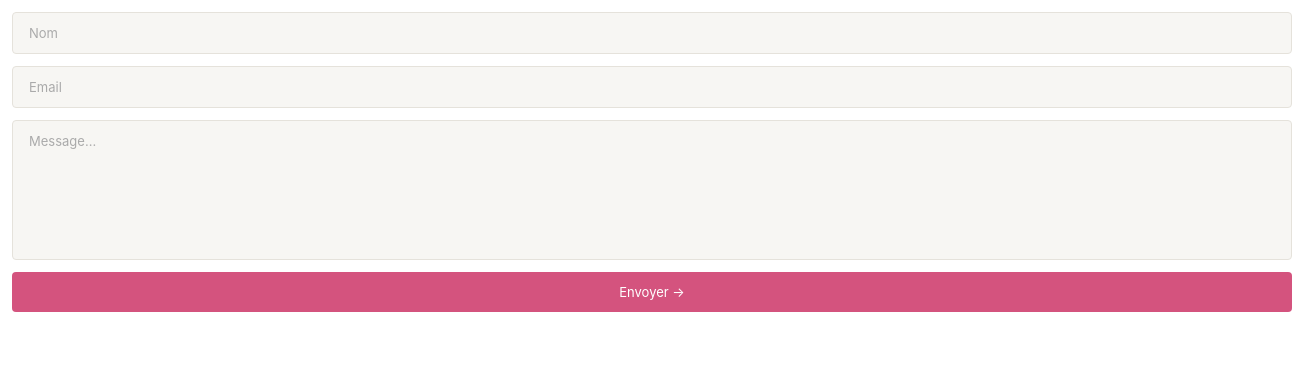
ContactForm › submission feedback › shows server error message on HttpError 500
The image size is (1304, 367).
Type "Alice" into the field with placeholder "Nom" at (652, 33), box [12,12,1292,54]
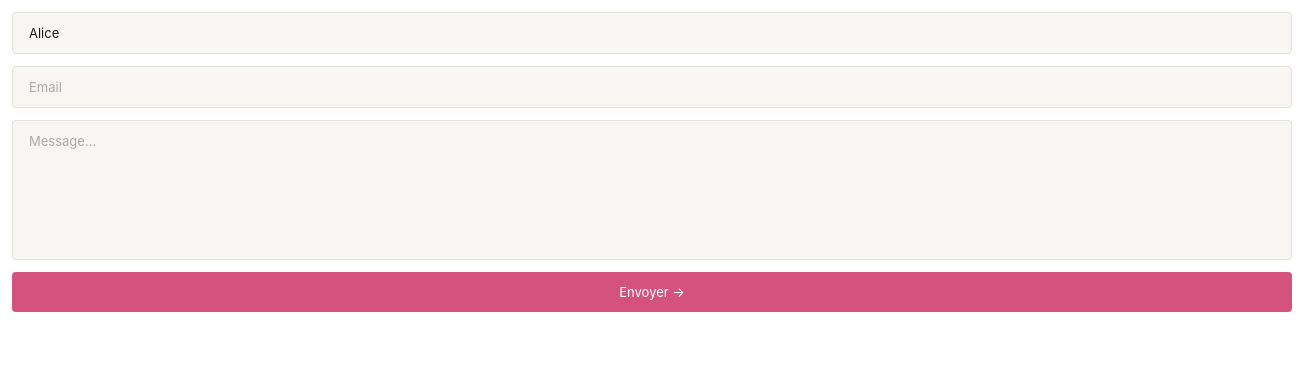
Type "alice@example.com" into the field with placeholder "Email" at (652, 87), box [12,66,1292,108]
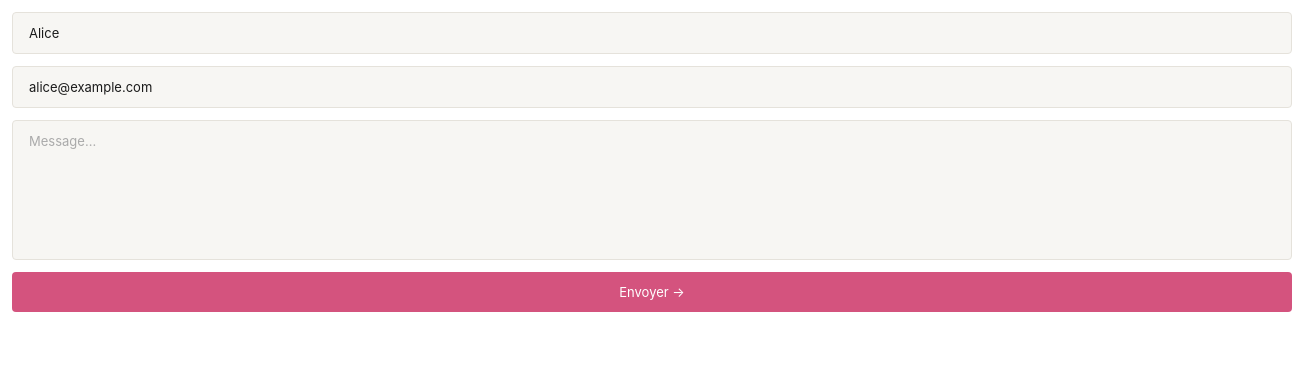
Type "Hello!" into the text box with placeholder "Message..." at (652, 190), box [12,120,1292,260]
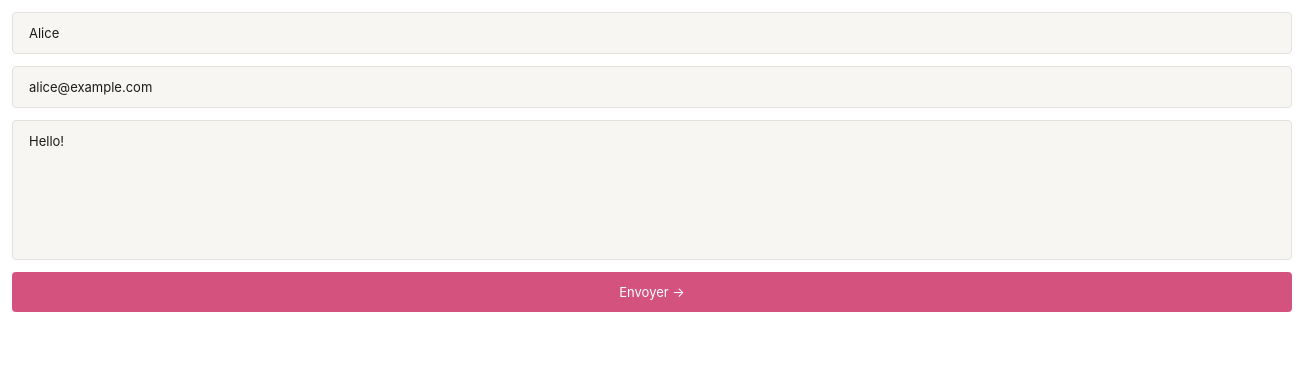
Click the button "Envoyer →" at (652, 292), box [12,272,1292,312]
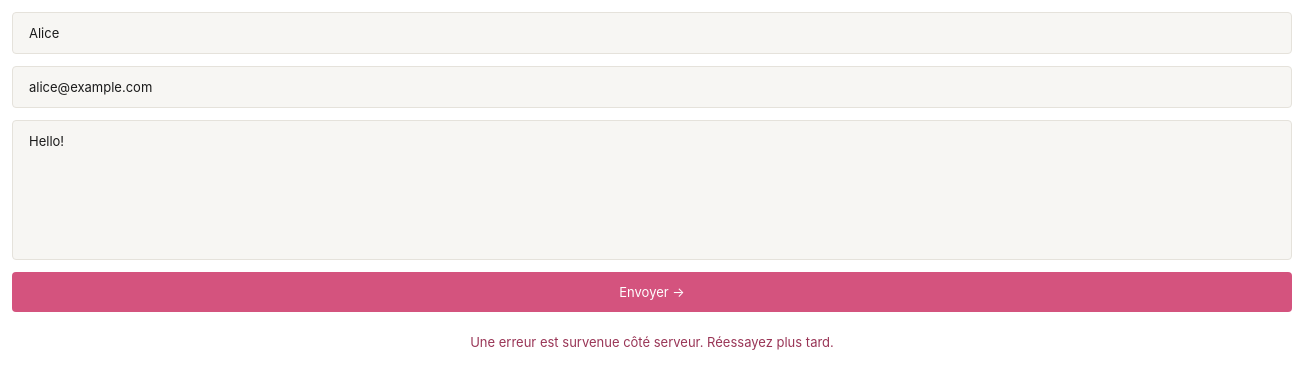
Now the text "Une erreur est survenue côté serveur. Réessayez plus tard." is shown, box [470,334,834,350]
